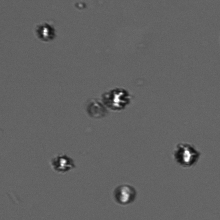Dead Cell: (86, 100, 107, 120)
Living Cell: (103, 85, 131, 111), (174, 142, 199, 168), (113, 183, 138, 206), (50, 152, 75, 174), (36, 23, 55, 42)
